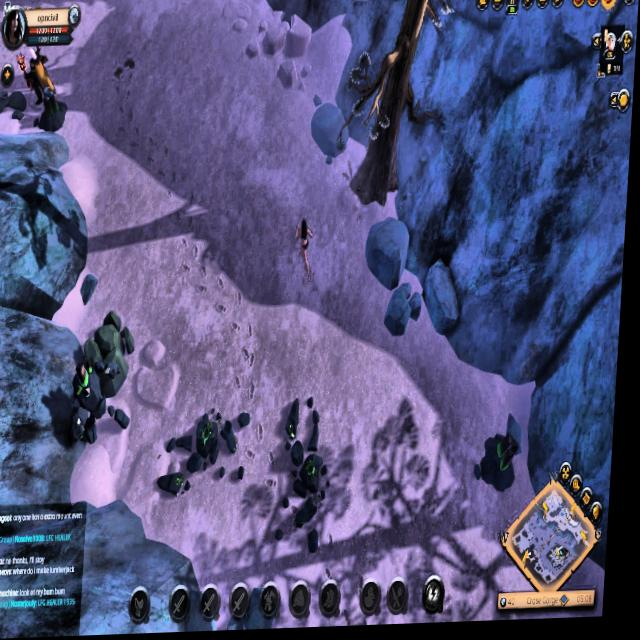sandstone: (83, 309, 141, 398)
tin_ore: (481, 423, 529, 504), (39, 88, 71, 138)
